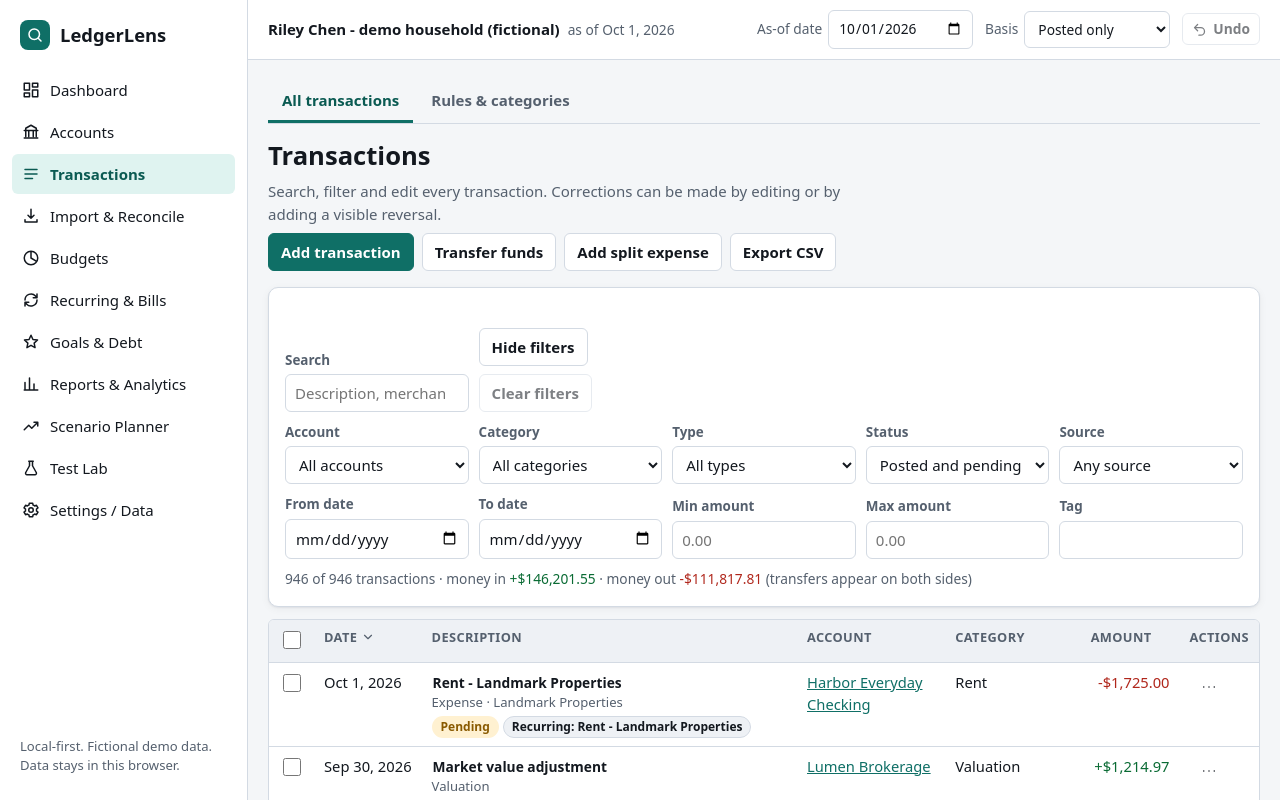
keyboard and accessibility behaviour › every form control in the transaction dialog has an accessible label and errors are announced
What coordinates should you click on to do the following:
click the button "Add transaction"
I would click on:
 (341, 252)
Its box is top-left (268, 233), bottom-right (414, 271).
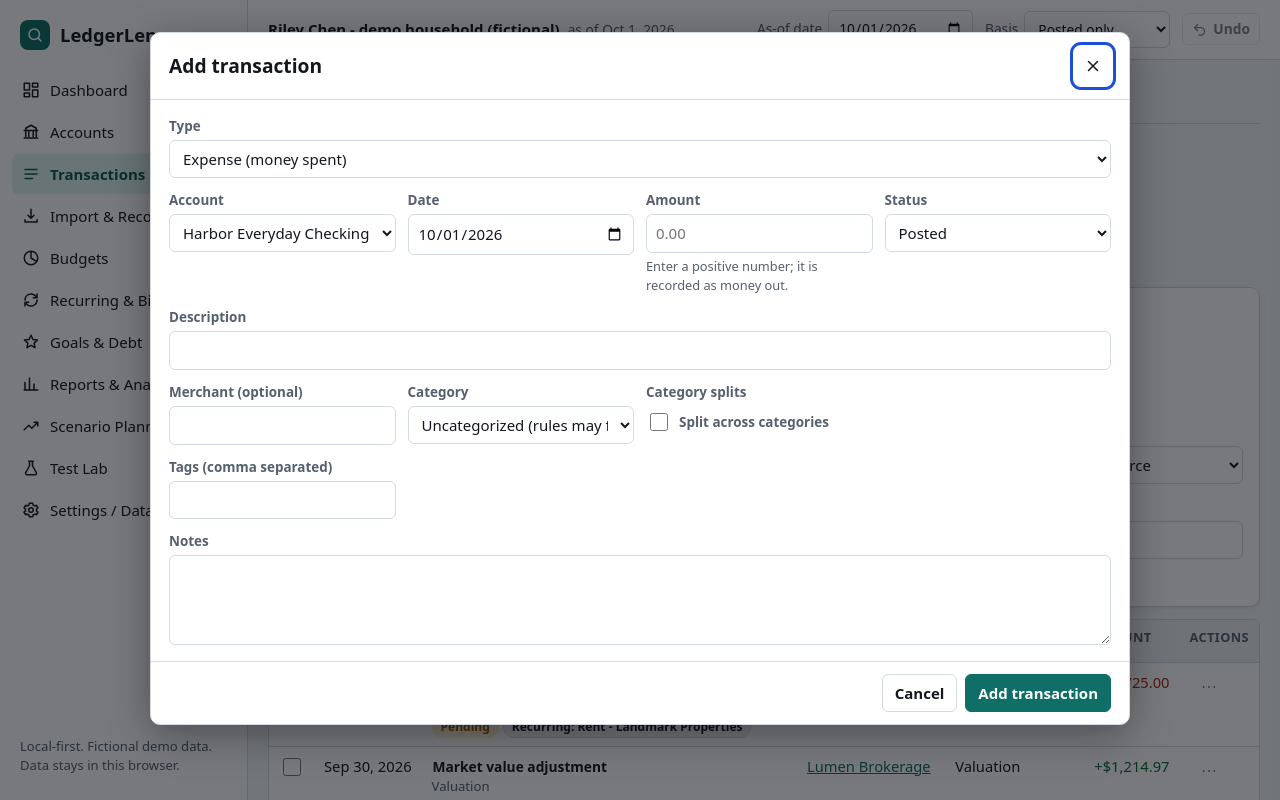
What coordinates should you click on to do the following:
click the button "Add transaction"
I would click on:
 (1038, 693)
Its box is top-left (965, 674), bottom-right (1111, 712).
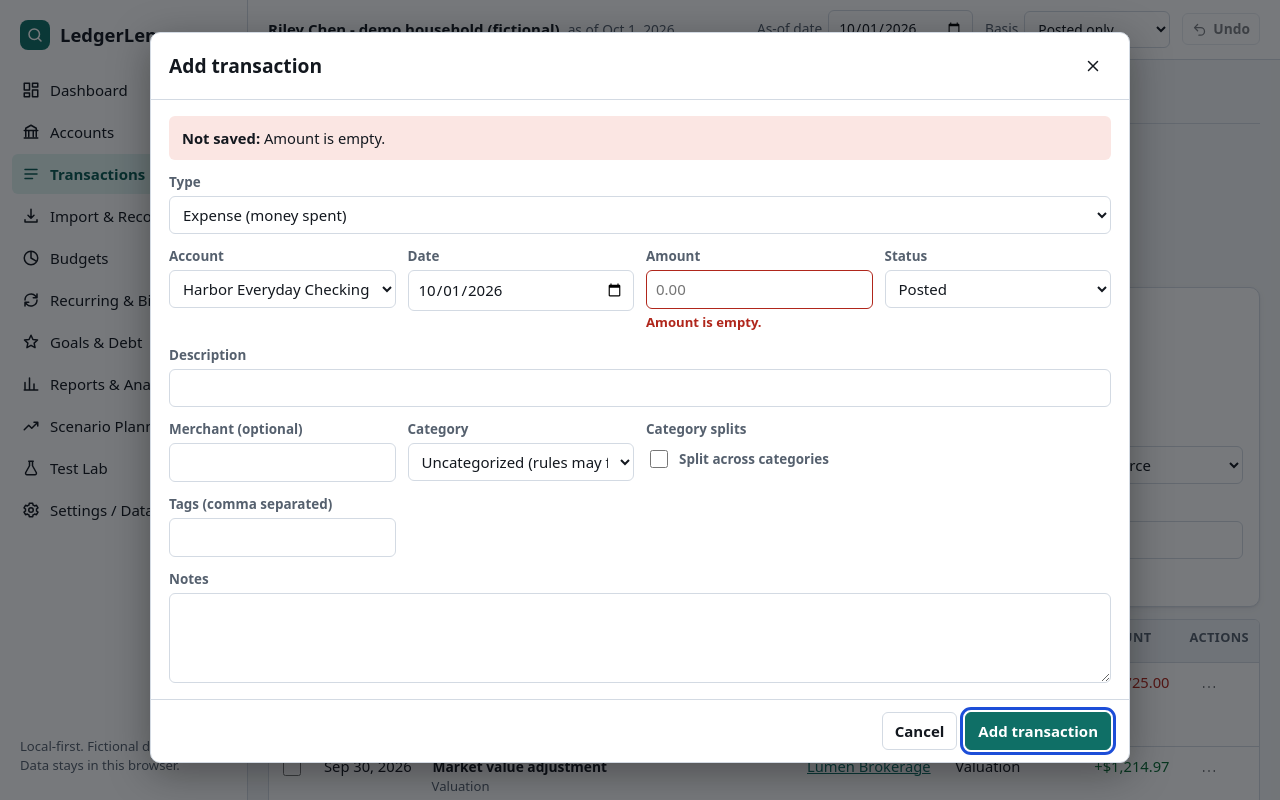
Result: the message "Not saved: Amount is empty." is shown at top-left (169, 116), bottom-right (1111, 160)
